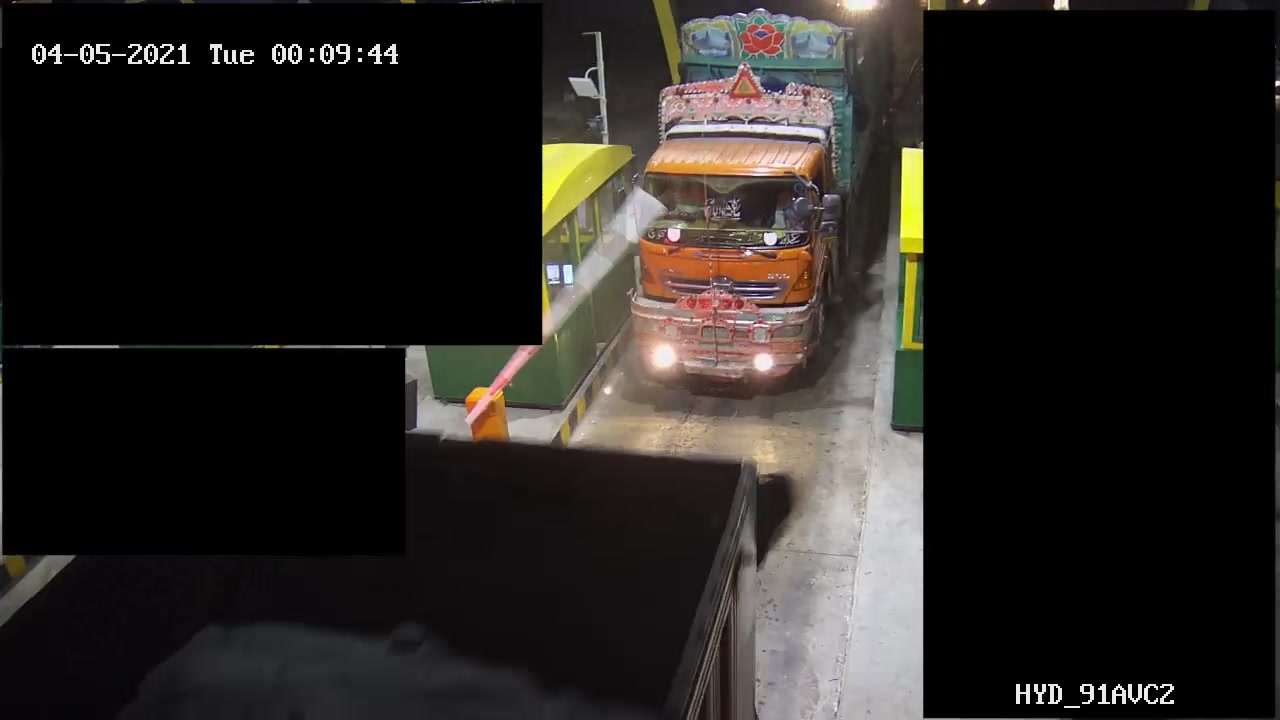F6: (639, 12, 902, 390)
